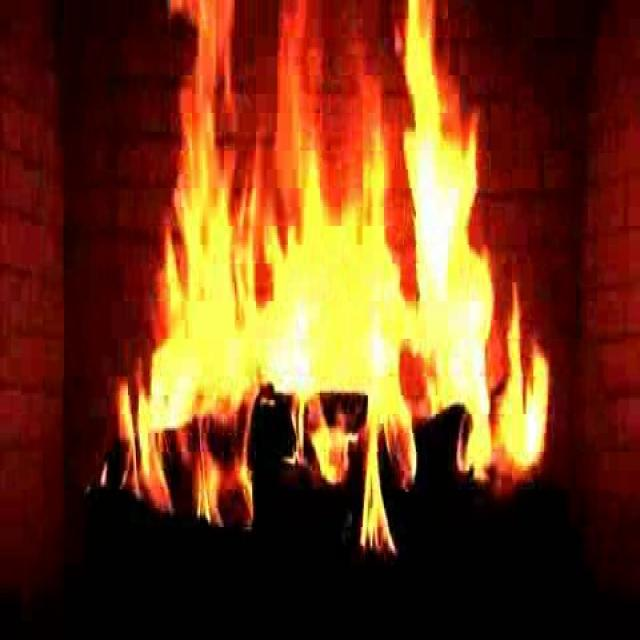fire: (99, 61, 548, 527)
